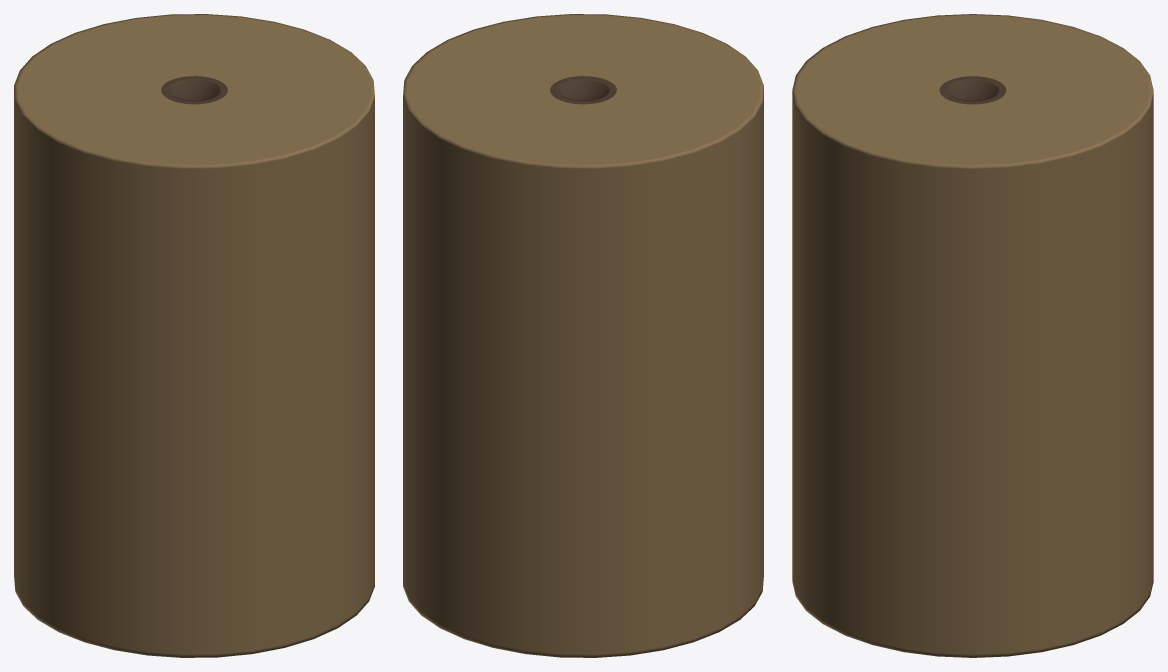
The picture shows the model from 3 angles, left to right: view 1: azimuth 30°, elevation 25°; view 2: azimuth 150°, elevation 25°; view 3: azimuth 270°, elevation 25°; orthographic projection.
Visible parts, largest first — view 1: Circle.001; view 2: Circle.001; view 3: Circle.001.
Boxes of the visible parts, <box> form: Circle.001: <box>14,14,374,657</box>; Circle.001: <box>403,14,763,657</box>; Circle.001: <box>792,14,1153,657</box>.
Size of the model in its own units: 1 by 1.5 by 1.
